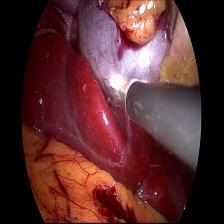Hook: (107, 76, 143, 112)
